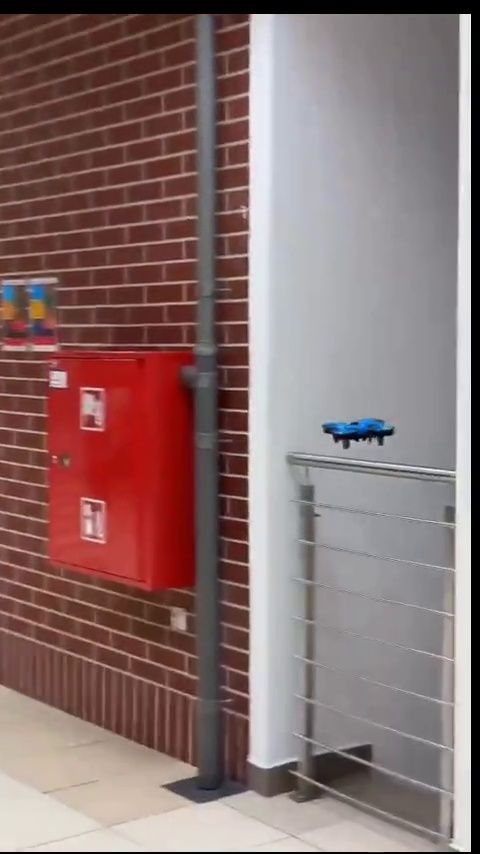drone: (325, 421, 396, 452)
